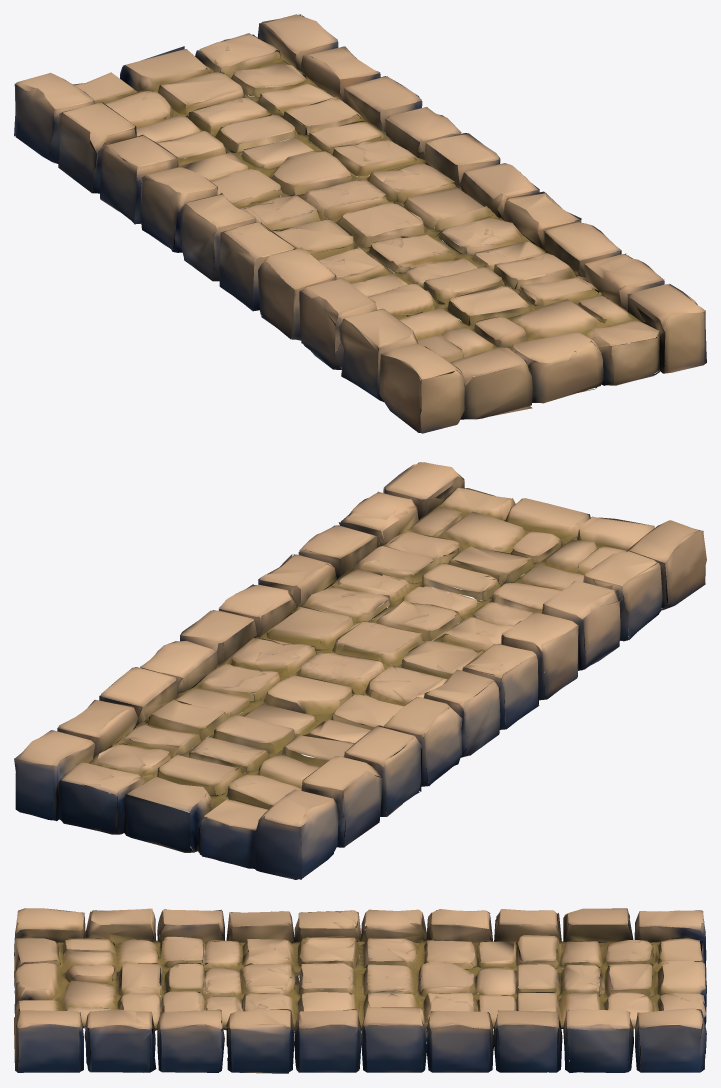
The model's file is stone_road.glb.
The picture shows the model from 3 angles, top to bottom: view 1: azimuth 30°, elevation 25°; view 2: azimuth 150°, elevation 25°; view 3: azimuth 270°, elevation 25°; orthographic projection. The views are drawn at different scales.
Visible parts, largest first — view 1: node_0; view 2: node_0; view 3: node_0.
Boxes of the visible parts, <box> form: node_0: <box>14,14,706,433</box>; node_0: <box>14,462,706,879</box>; node_0: <box>14,908,706,1073</box>.
Bounding box in the file's own units: 0.4562 × 0.0903 × 1.12.
Materials: 1 (1 with a texture image).
